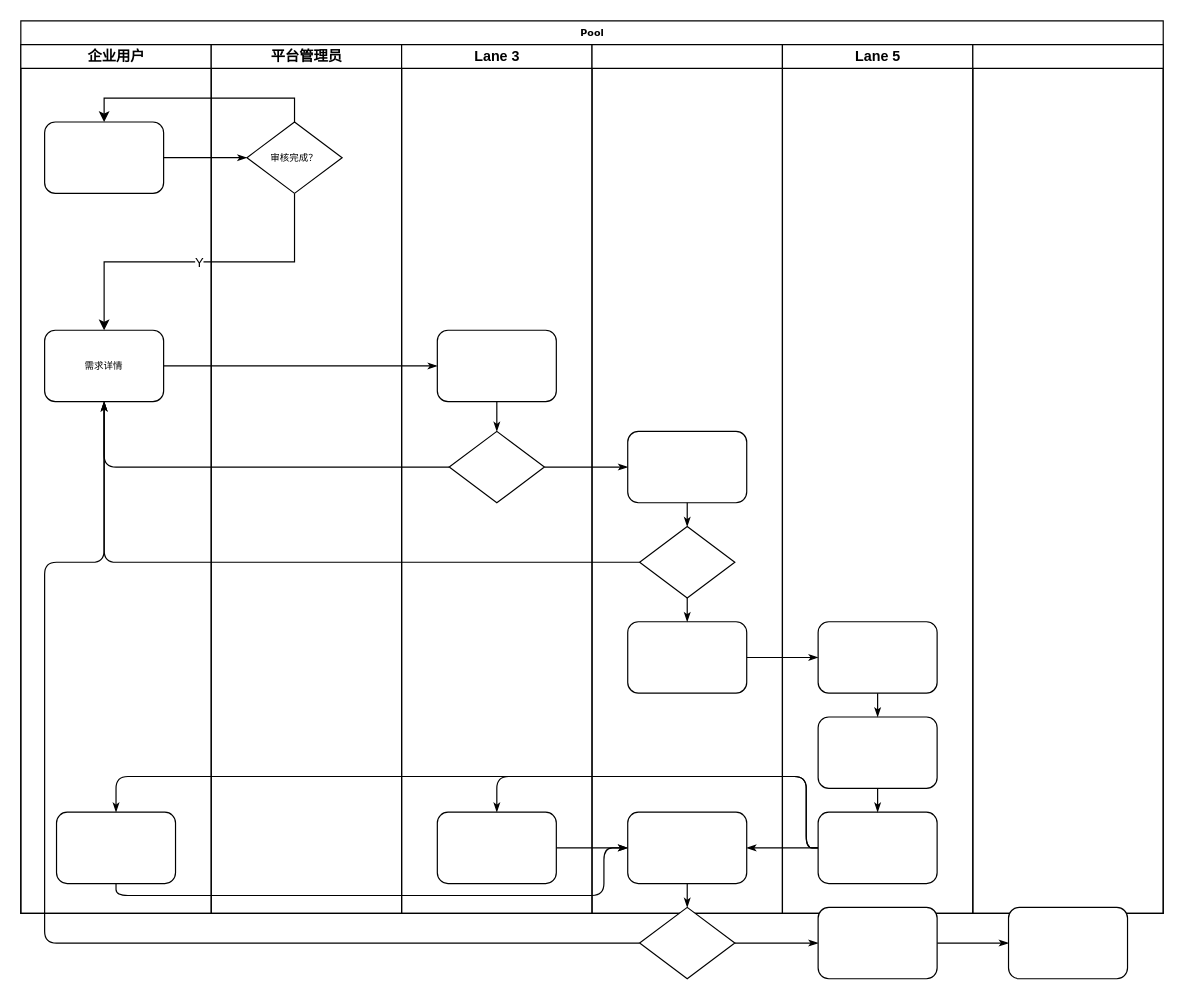
The diagram is 1184 pixels wide and 1000 high, and some of its shapes have lost their labels. The box of each missing label's shape, as (x1, y1, x2, y2) in pixels:
Lane 4: (591, 43, 782, 913)
Lane 6: (972, 43, 1163, 913)
发布需求: (43, 121, 164, 193)
